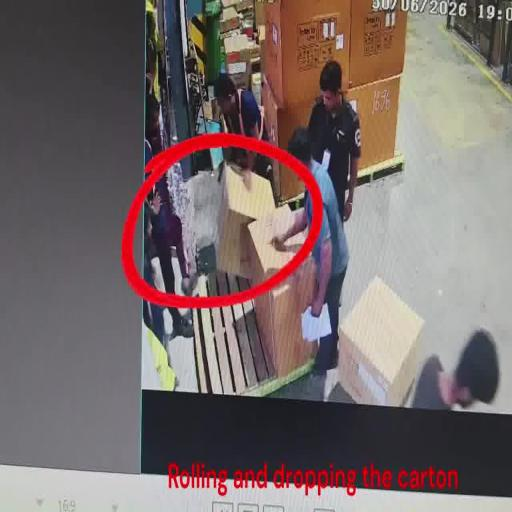carton: (247, 208, 322, 377), (337, 273, 425, 410), (258, 0, 350, 112), (216, 161, 276, 288), (260, 82, 315, 200), (348, 0, 410, 90), (351, 75, 401, 174)
forklift: (142, 0, 224, 392)
pallet: (189, 271, 322, 397), (278, 156, 406, 212)
person: (272, 128, 350, 373), (304, 59, 362, 222), (143, 177, 194, 342), (411, 327, 502, 413), (214, 74, 274, 178)
